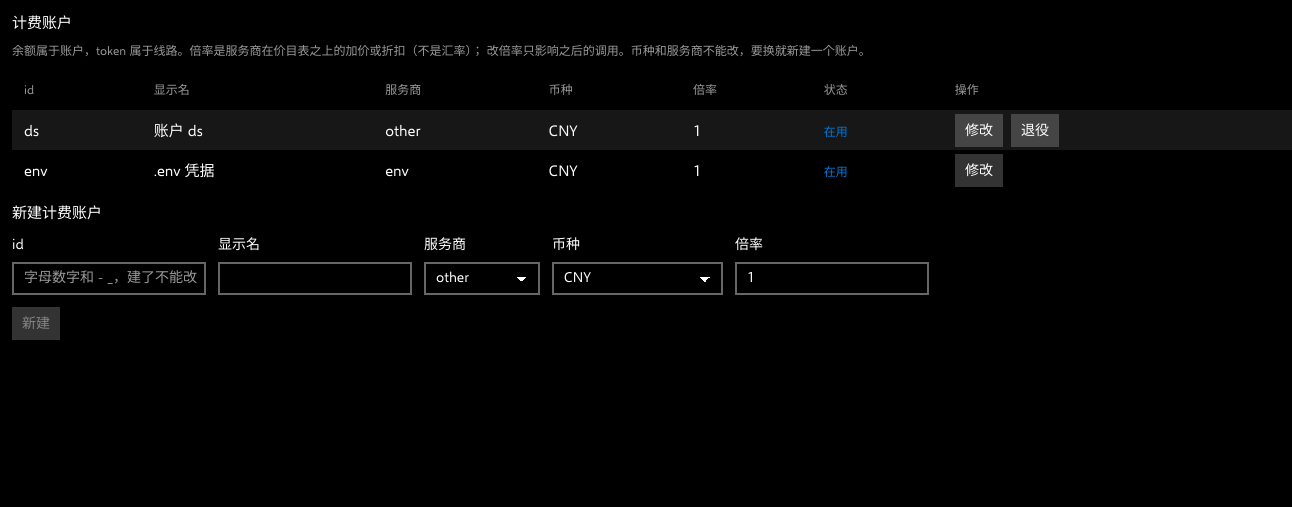
Scenario: 计费账户 › 修改只发显示名和倍率
Click the button "修改" in the row of "账户 ds" at (979, 130), box [955,114,1003,147]
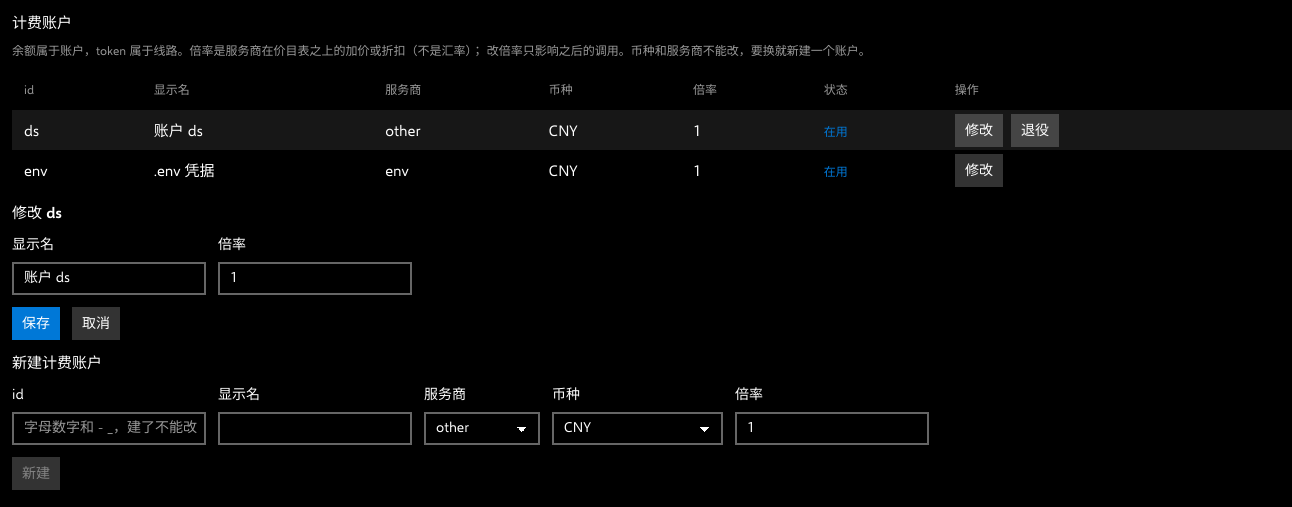
Replace the text in the 1st field labelled "倍率" with "1.2" at (315, 278), box [218,262,412,295]
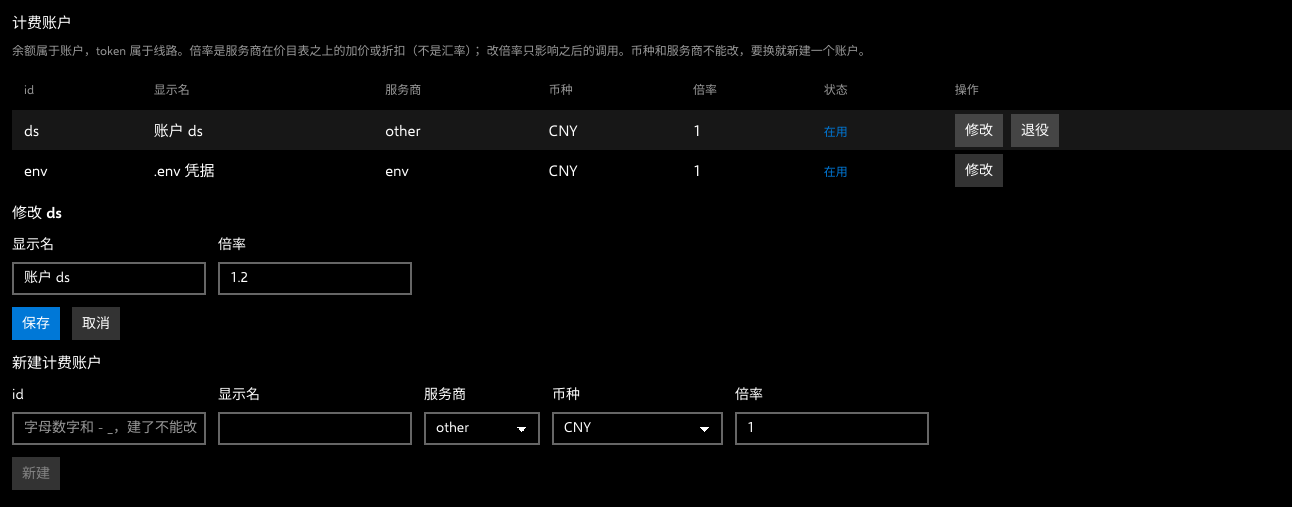
Click the button "保存" at (36, 324), box [12,307,60,340]
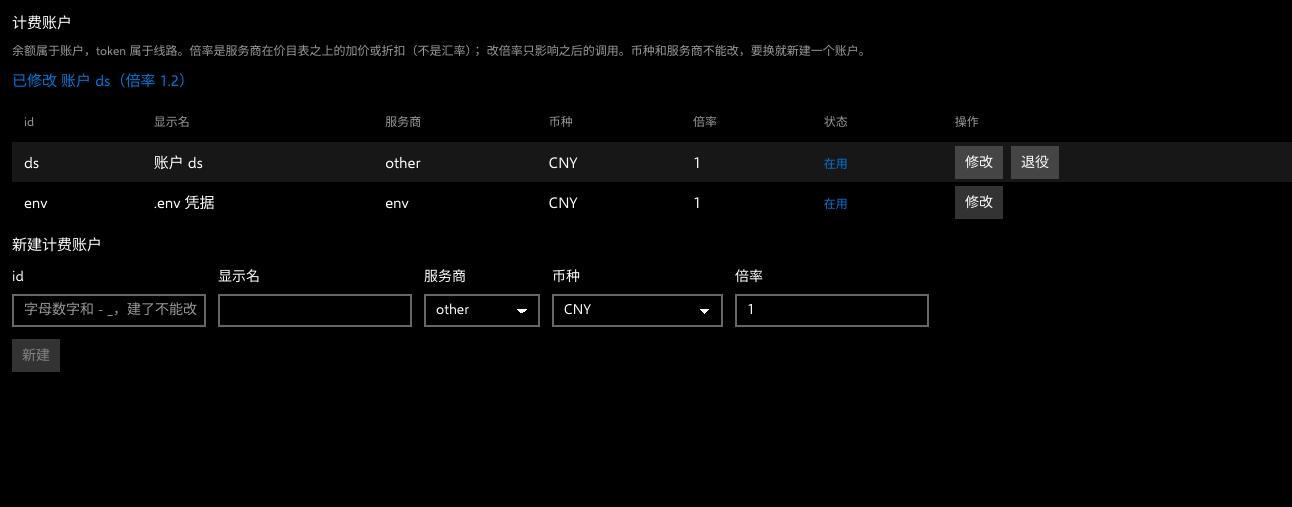
Result: the heading "修改 ds" is gone
